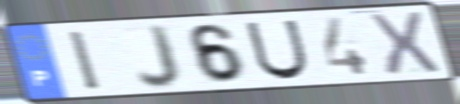4: (324, 15, 372, 79)
6: (184, 22, 248, 86)
I: (66, 28, 105, 93)
J: (134, 23, 184, 91)
U: (242, 18, 312, 82)
X: (364, 10, 444, 79)
